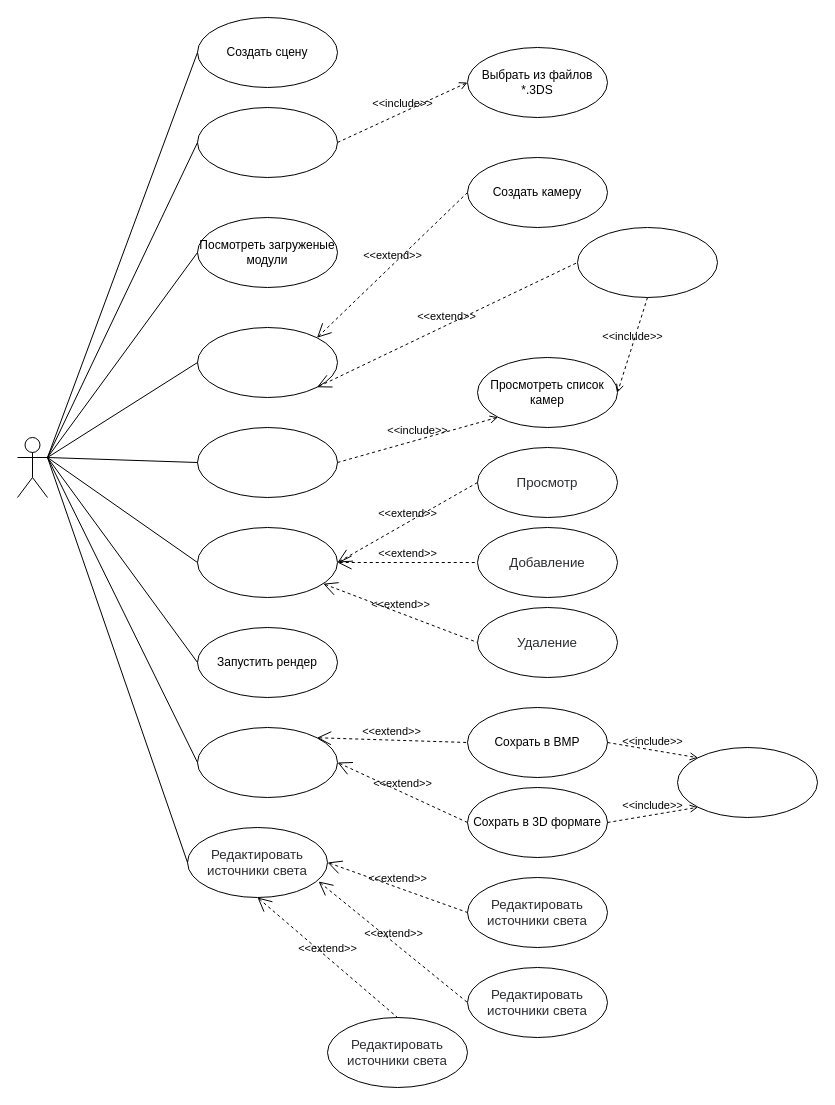
Image size: 835x1105. Some labels were removed from this diagram. The centre of each missing label's shape, as x and y in pixels:
User: the point at 32,467
Выбрать место сохранения: the point at 747,782
Загрузить модели: the point at 267,142
Переключится между камерами: the point at 267,462
Редактировать камеры: the point at 267,362
Редактировать полигональную сетку: the point at 267,562
Сохрать в файл: the point at 267,762
Удалить камеру: the point at 647,262
